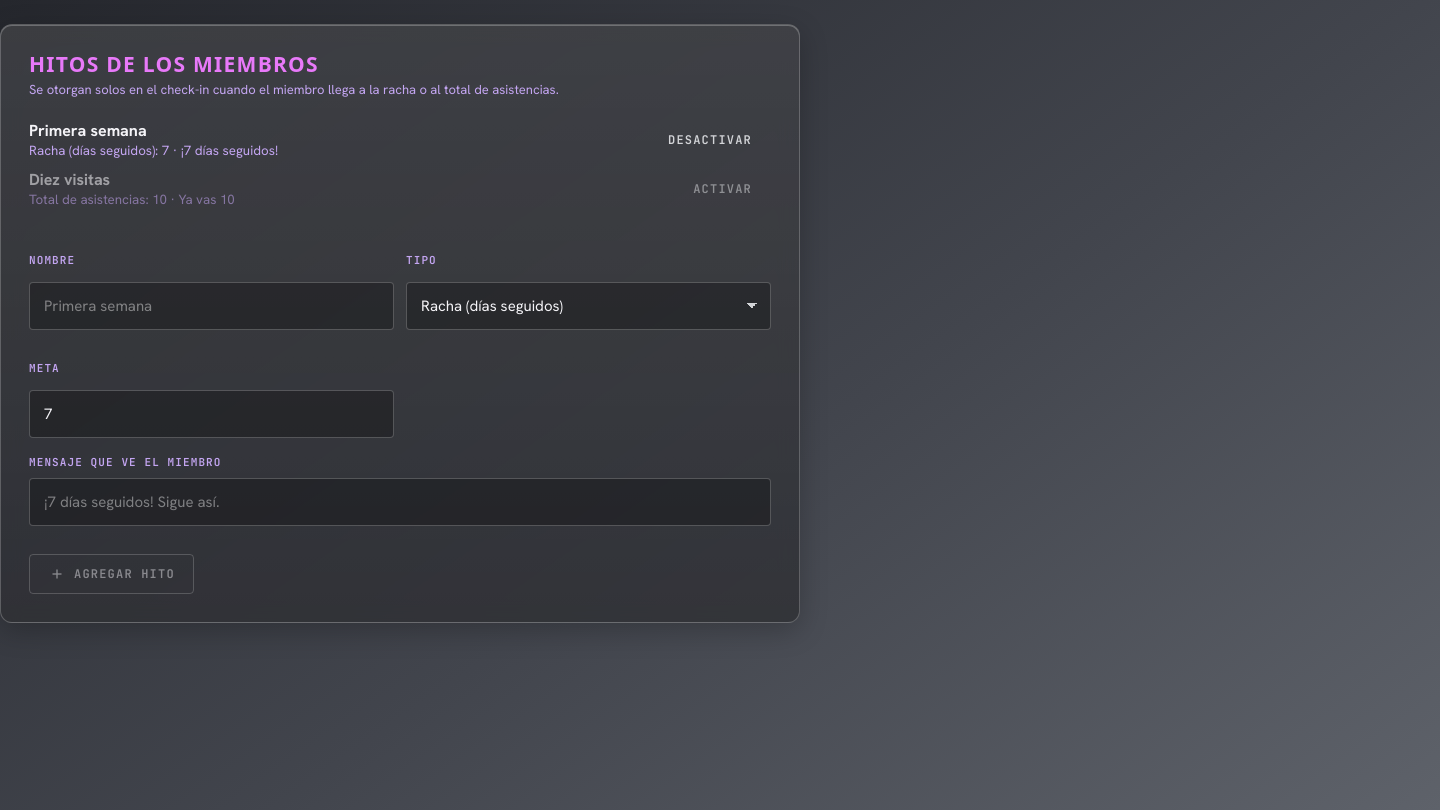
HitosConfig: crear un hito › should show the API error and keep what was typed when the milestone already exists
Expected: the text "Primera semana" is shown, [29,120,147,141]
In the field labelled "Nombre": (212, 306) [29,282,394,330], type "Otra semana"
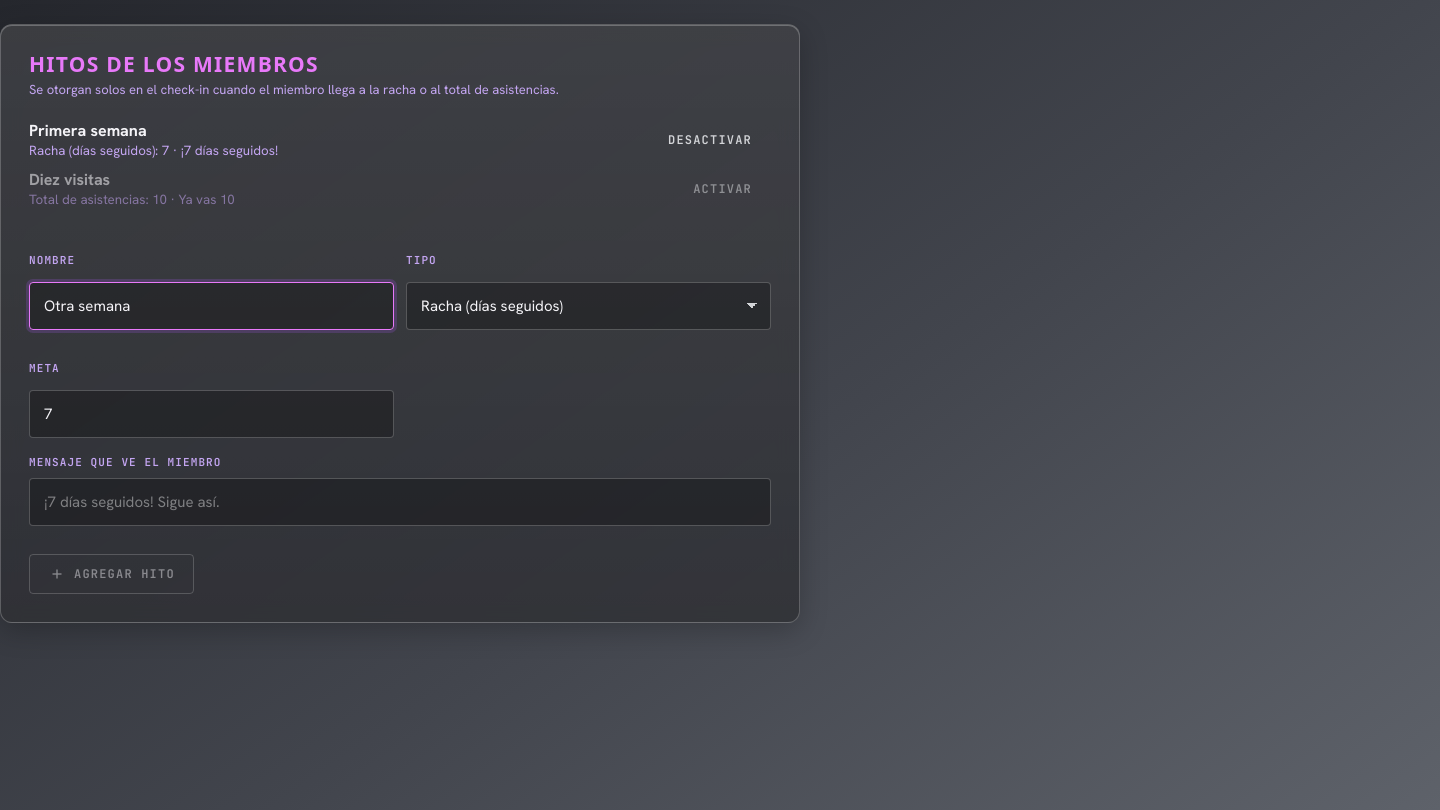
In the field labelled "Mensaje que ve el miembro": (400, 502) [29,478,771,526], type "Repetido"
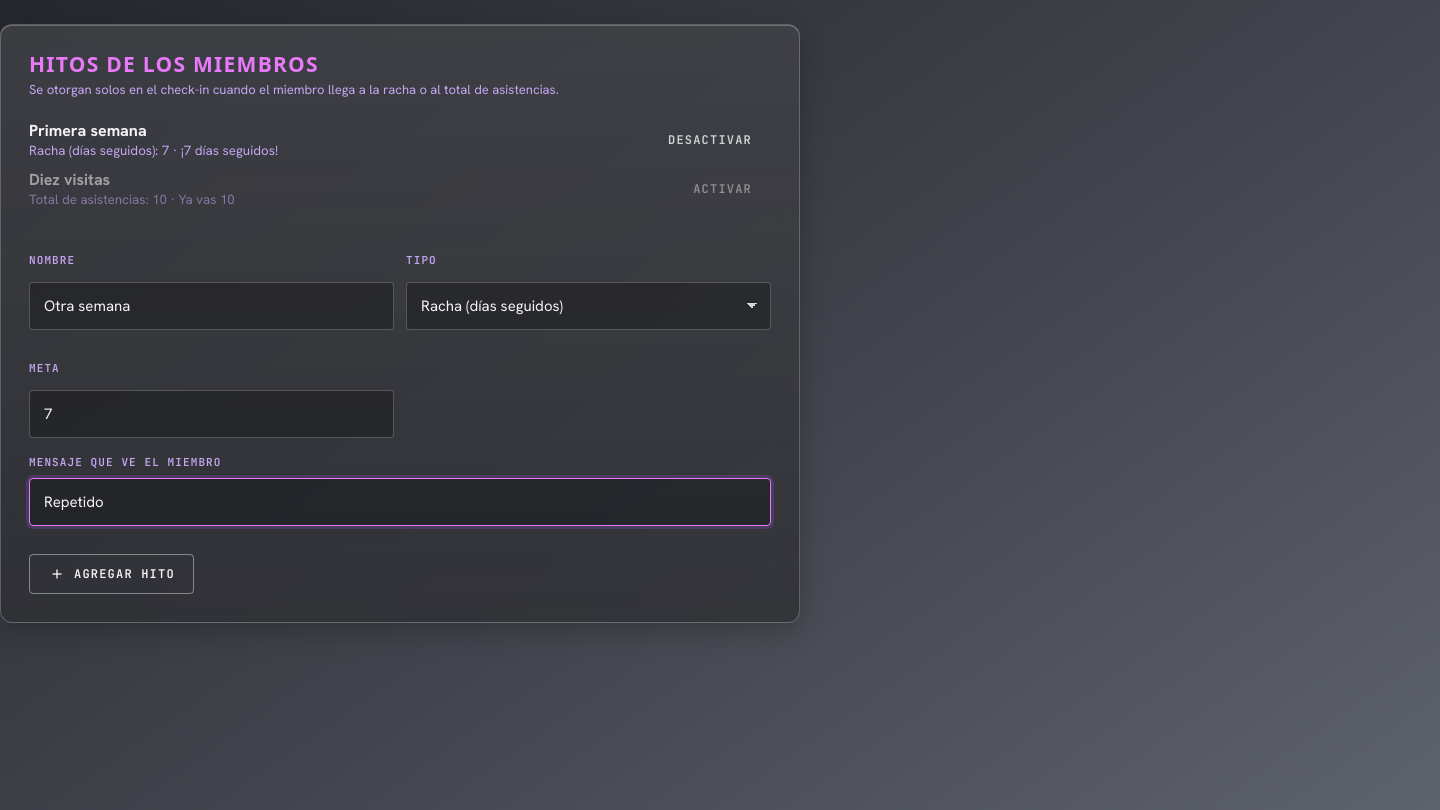
Click the button "Agregar hito": (111, 574) [29,554,194,594]
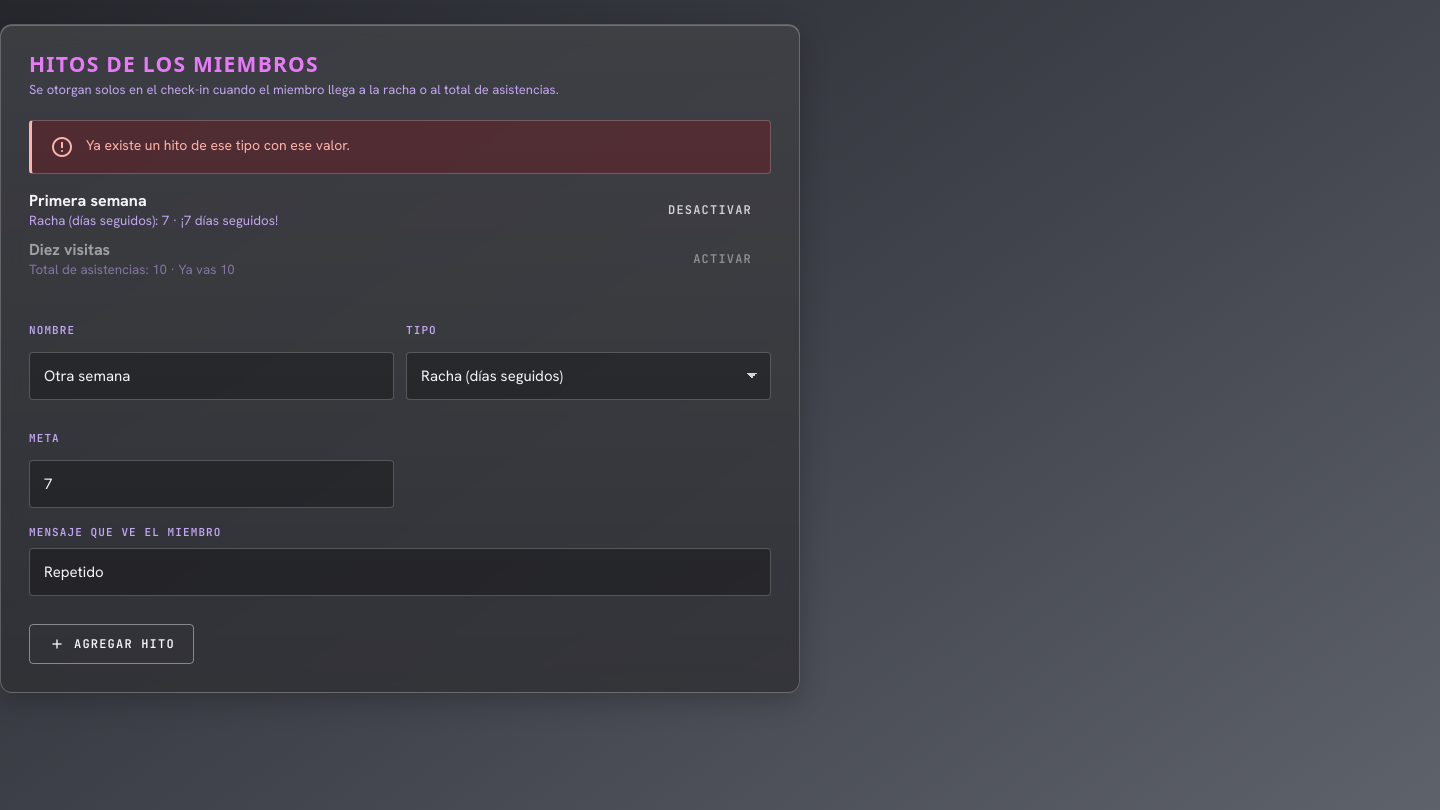
Expected: the button "Agregar hito" is enabled, [29,624,194,664]
Expected: the message reads "Ya existe un hito de ese tipo con ese valor.", [86,136,350,154]
